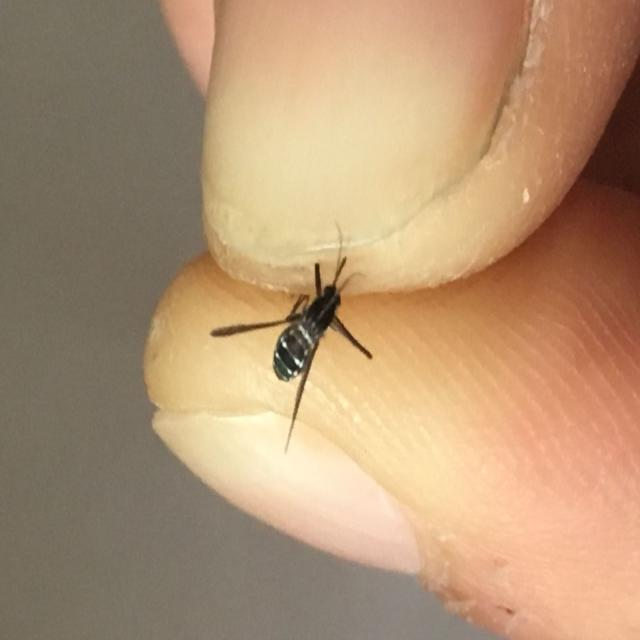albopictus: (205, 212, 380, 457)
